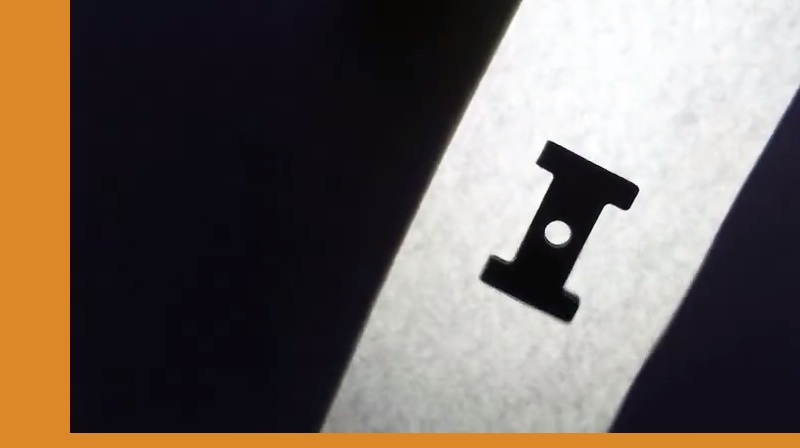O002: (473, 139, 643, 326)
